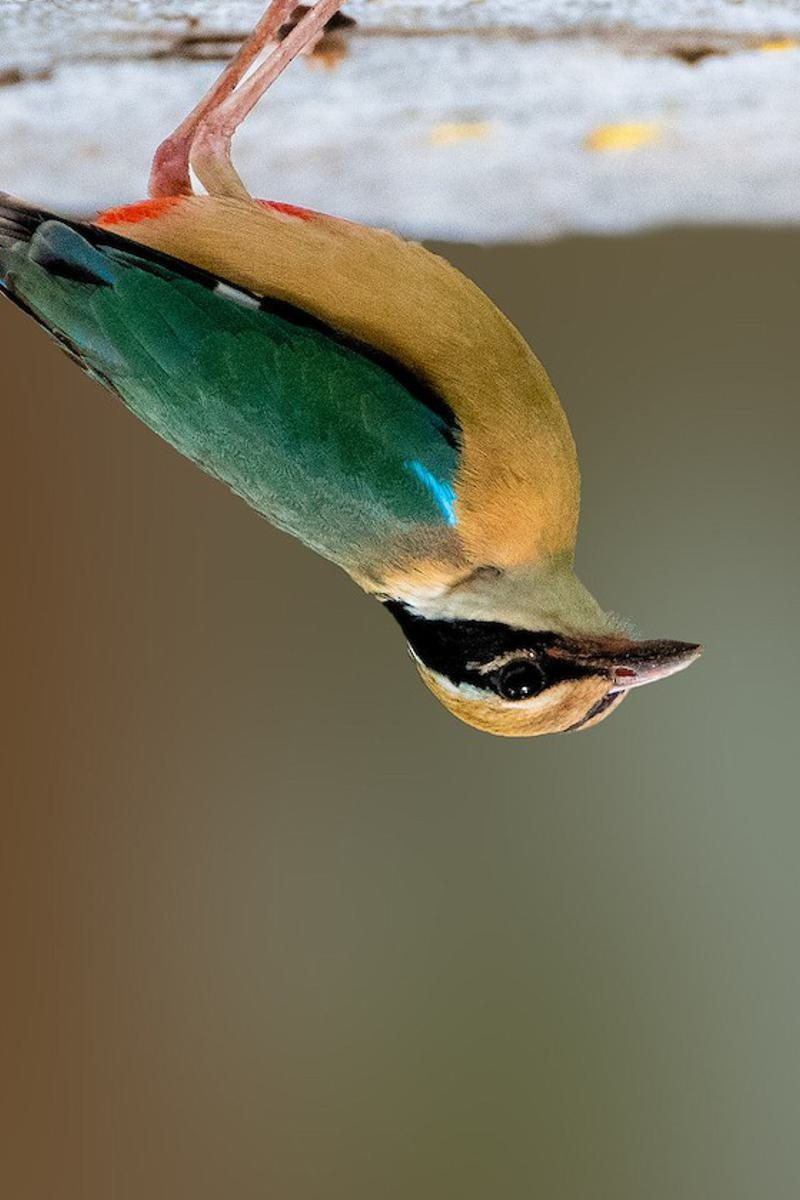pitta: (52, 104, 685, 769)
